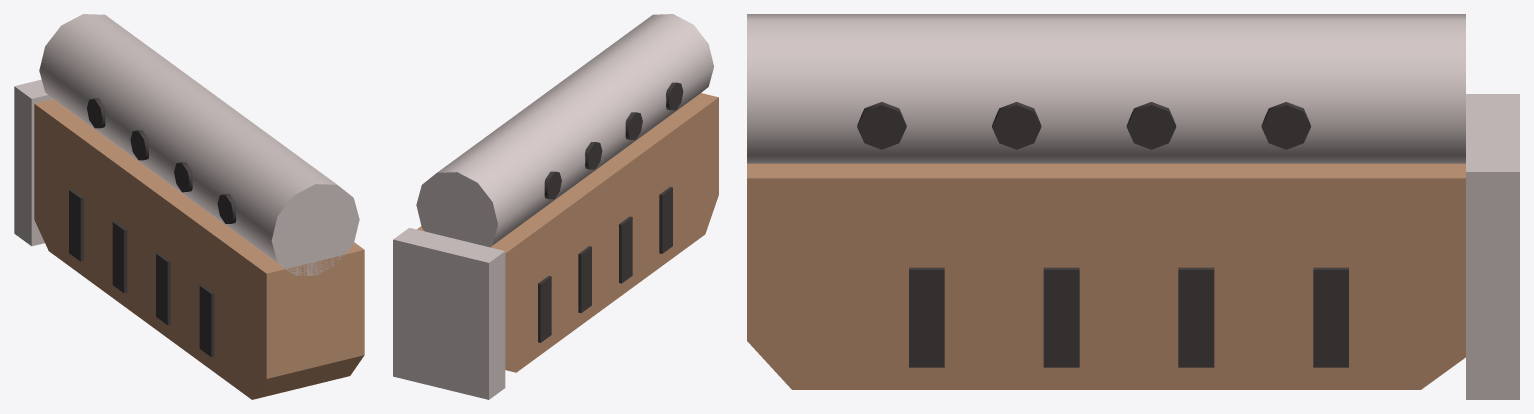
The model's file is assault_rifle_handguard.glb.
The picture shows the model from 3 angles, left to right: view 1: azimuth 30°, elevation 25°; view 2: azimuth 150°, elevation 25°; view 3: azimuth 270°, elevation 25°; orthographic projection. The views are drawn at different scales.
Parts seen in each view (by area): view 1: handguard; view 2: handguard; view 3: handguard.
Part boxes in pixels (left/top/right/bottom): handguard: left=14, top=14, right=364, bottom=399; handguard: left=393, top=14, right=718, bottom=399; handguard: left=747, top=14, right=1519, bottom=399.
Bounding box in the file's own units: 0.0414 × 0.0835 × 0.172.
